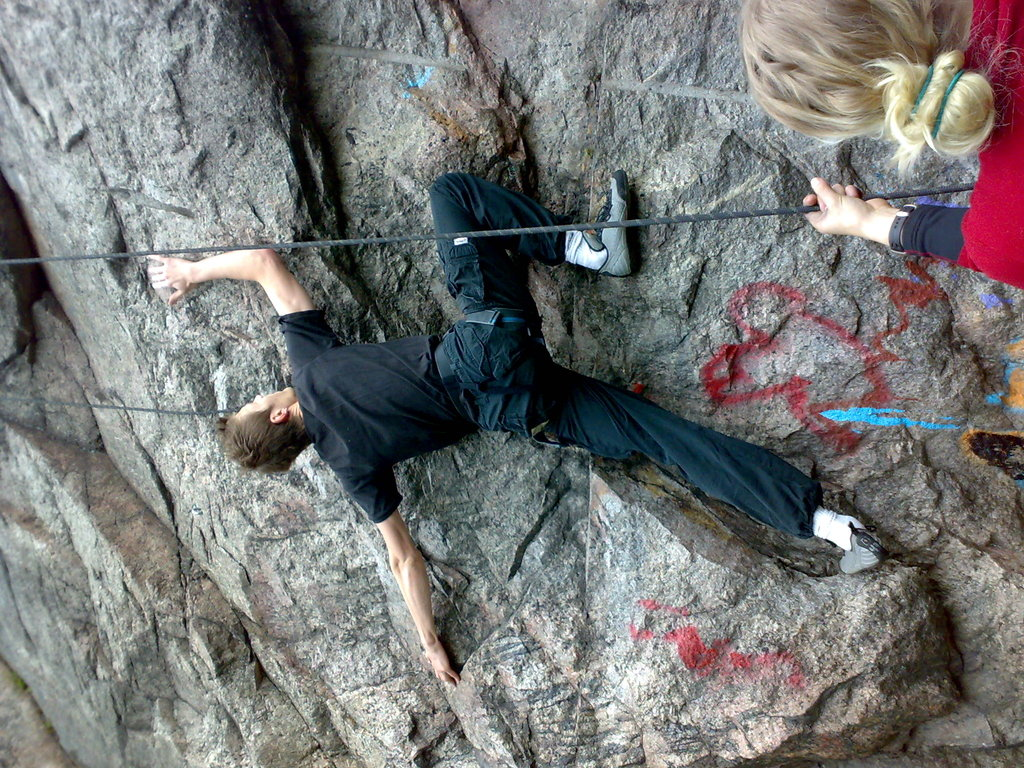Human_hand: (803, 178, 892, 236), (149, 251, 194, 308), (424, 642, 461, 683)
